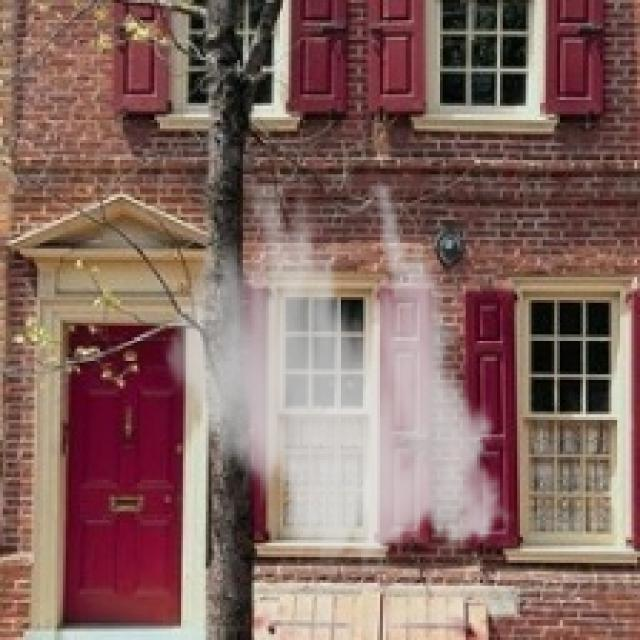Smoke: (155, 182, 520, 578)
